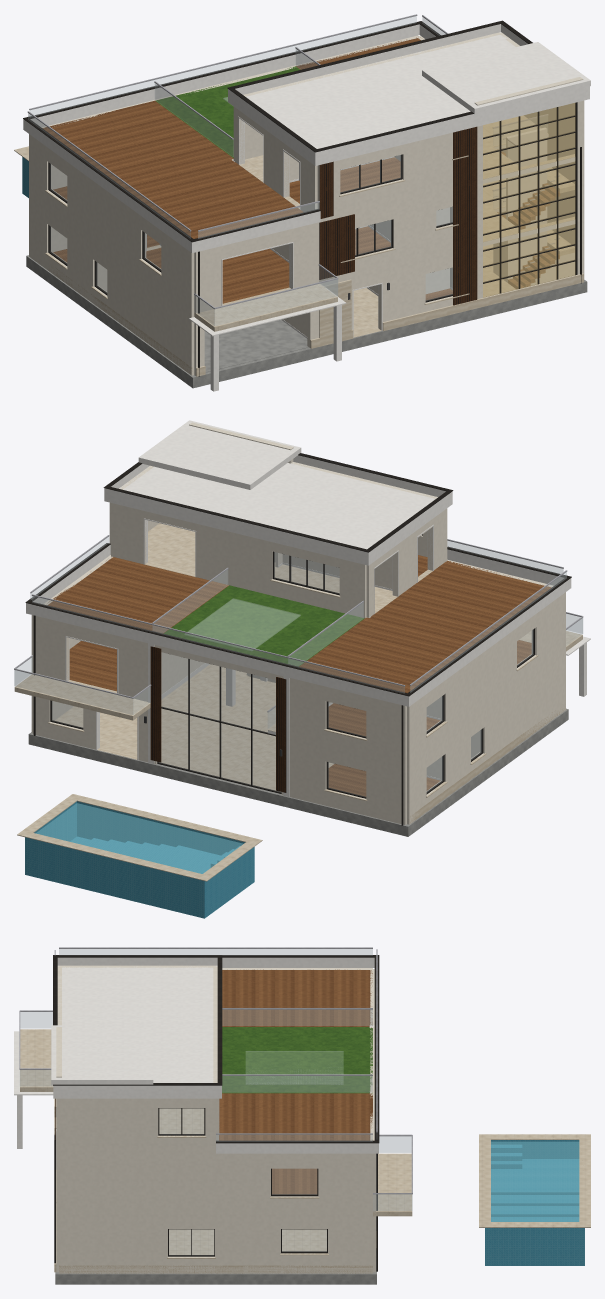
File: LuxuryVilla_Architecture.glb
3 views of the same model, one above another, from view 1: azimuth 30°, elevation 25°; view 2: azimuth 150°, elevation 25°; view 3: azimuth 270°, elevation 25° (orthographic). The views are drawn at different scales.
Visible parts, largest first — view 1: ExteriorWalls, Roof, UpperFloor, Windows, Railings, Trim, Foundation, Stairs, GroundFloor, Balcony, InteriorWalls, StructuralColumns (+1 smaller); view 2: ExteriorWalls, UpperFloor, Roof, Windows, SwimmingPool, GroundFloor, Railings, Trim, PoolWater, Foundation, Balcony, InteriorWalls (+1 smaller); view 3: ExteriorWalls, Roof, UpperFloor, SwimmingPool, Railings, PoolWater, Trim, Windows, Balcony, Foundation, GroundFloor.
Boxes of the visible parts, left/top/right/bottom form: ExteriorWalls: left=29, top=32, right=584, bottom=376; Roof: left=23, top=24, right=590, bottom=336; UpperFloor: left=43, top=37, right=575, bottom=303; Windows: left=48, top=102, right=576, bottom=302; Railings: left=27, top=14, right=559, bottom=326; Trim: left=23, top=20, right=581, bottom=376; Foundation: left=26, top=255, right=587, bottom=388; Stairs: left=493, top=128, right=574, bottom=288; GroundFloor: left=53, top=244, right=515, bottom=375; Balcony: left=194, top=284, right=337, bottom=331; InteriorWalls: left=98, top=156, right=452, bottom=336; StructuralColumns: left=210, top=159, right=341, bottom=391; ExteriorWalls: left=31, top=422, right=565, bottom=824; UpperFloor: left=48, top=523, right=551, bottom=736; Roof: left=26, top=420, right=590, bottom=706; Windows: left=50, top=534, right=534, bottom=798; SwimmingPool: left=17, top=794, right=262, bottom=918; GroundFloor: left=55, top=664, right=440, bottom=796; Railings: left=14, top=535, right=583, bottom=728; Trim: left=25, top=453, right=571, bottom=825; PoolWater: left=36, top=803, right=243, bottom=873; Foundation: left=28, top=708, right=568, bottom=836; Balcony: left=14, top=631, right=582, bottom=720; InteriorWalls: left=161, top=552, right=479, bottom=778; ExteriorWalls: left=54, top=965, right=375, bottom=1273; Roof: left=14, top=957, right=378, bottom=1153; UpperFloor: left=159, top=969, right=372, bottom=1194; SwimmingPool: left=479, top=1134, right=590, bottom=1265; Railings: left=19, top=947, right=412, bottom=1210; PoolWater: left=491, top=1141, right=579, bottom=1221; Trim: left=53, top=955, right=379, bottom=1271; Windows: left=158, top=1108, right=327, bottom=1256; Balcony: left=20, top=1029, right=412, bottom=1216; Foundation: left=55, top=1108, right=376, bottom=1284; GroundFloor: left=169, top=1229, right=326, bottom=1254.
Bounding box in the file's own units: 22.64 × 13.3 × 29.4.
Materials: 17 (12 with a texture image).
